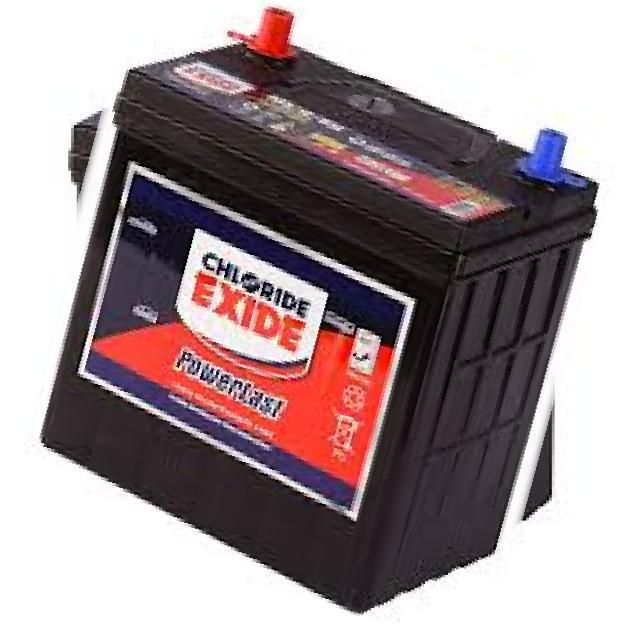Battery: (38, 2, 602, 614)
